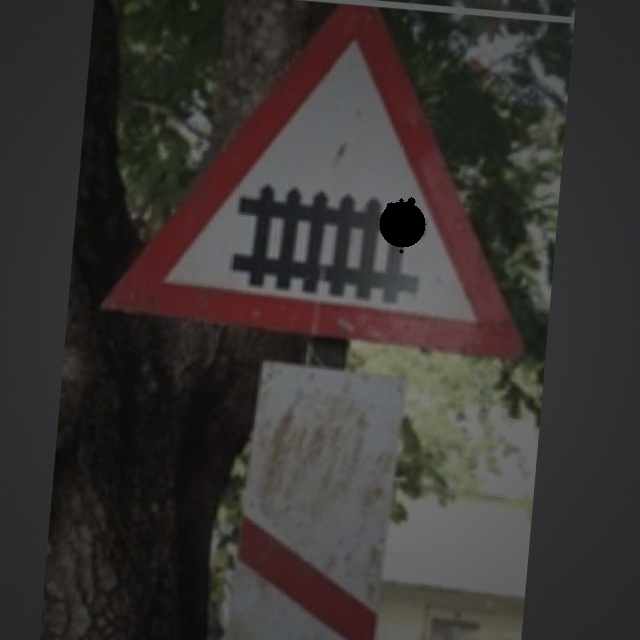Guarded_Level_Crossing: (121, 6, 532, 348)
